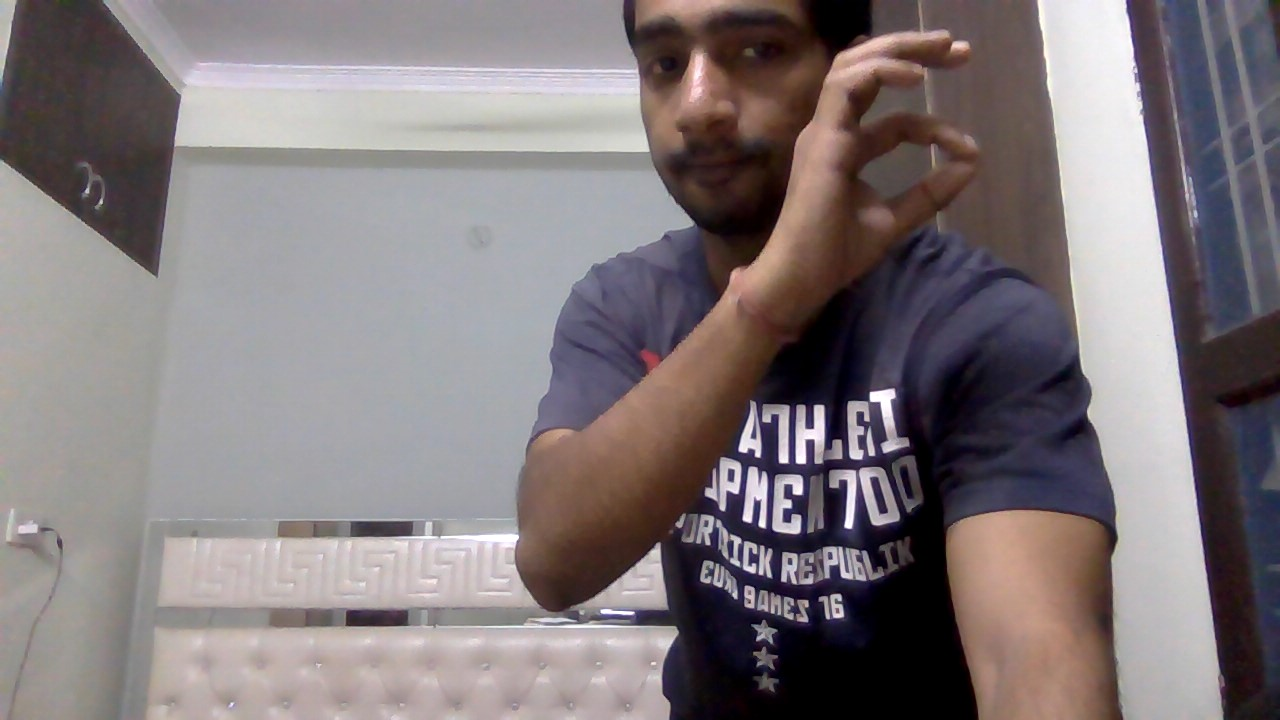Copy: (759, 20, 1003, 324)
